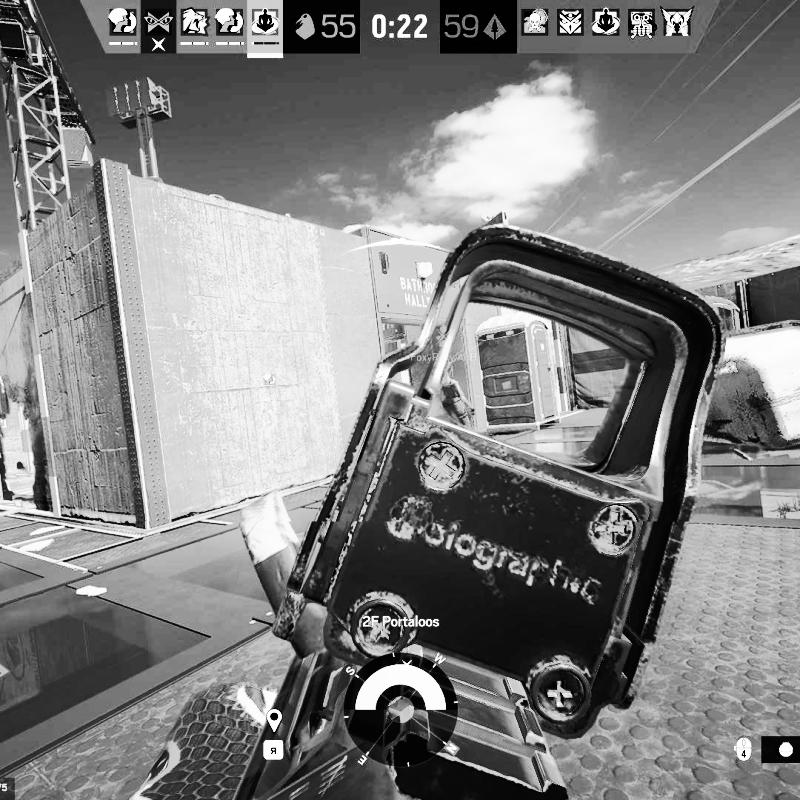Character: (439, 360, 479, 435)
Friend_label: (251, 372, 288, 400)
